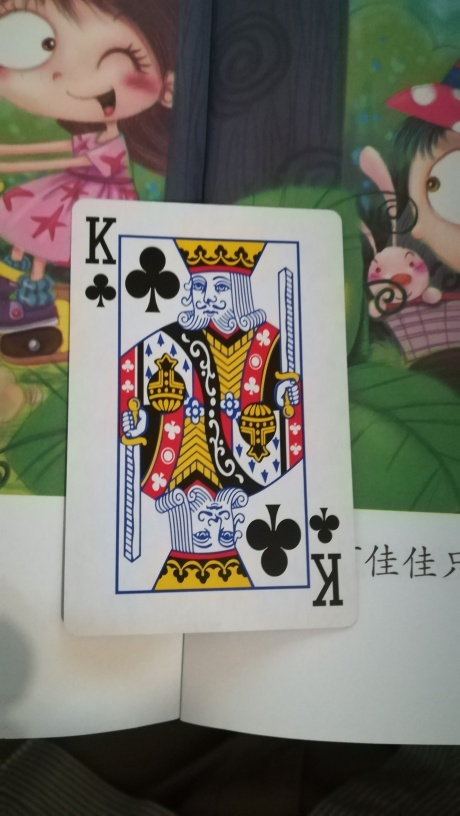mh k: (59, 196, 362, 636)
